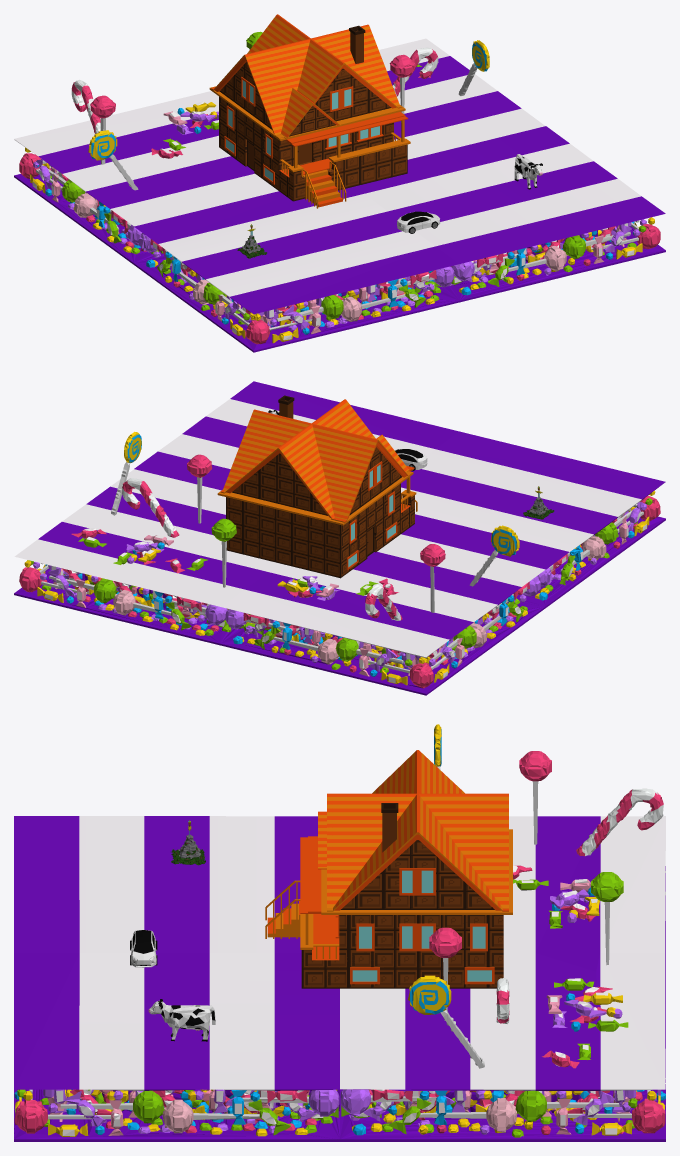
The picture shows the model from 3 angles, top to bottom: view 1: azimuth 30°, elevation 25°; view 2: azimuth 150°, elevation 25°; view 3: azimuth 270°, elevation 25°; orthographic projection. The views are drawn at different scales.
Parts seen in each view (by area): view 1: TERRAIN_CANDY, Cube, VEHICLES_TESLA, ANIMAL_VACA; view 2: TERRAIN_CANDY, Cube, VEHICLES_TESLA; view 3: TERRAIN_CANDY, Cube, ANIMAL_VACA, VEHICLES_TESLA, OBJRANDOM_SWORD_IN_THE_STONE.
Part boxes in pixels (box(x1,y1,x2,y2)): TERRAIN_CANDY: box(14, 31, 665, 352); Cube: box(209, 14, 410, 208); VEHICLES_TESLA: box(397, 211, 440, 233); ANIMAL_VACA: box(514, 154, 542, 189); TERRAIN_CANDY: box(14, 381, 665, 695); Cube: box(217, 395, 417, 578); VEHICLES_TESLA: box(394, 449, 427, 471); TERRAIN_CANDY: box(14, 724, 665, 1141); Cube: box(265, 750, 512, 988); ANIMAL_VACA: box(148, 999, 215, 1041); VEHICLES_TESLA: box(130, 930, 157, 967); OBJRANDOM_SWORD_IN_THE_STONE: box(171, 820, 205, 865).
Size of the model in its own units: 4059 by 1584 by 4000.
32 materials, 3 textured.
